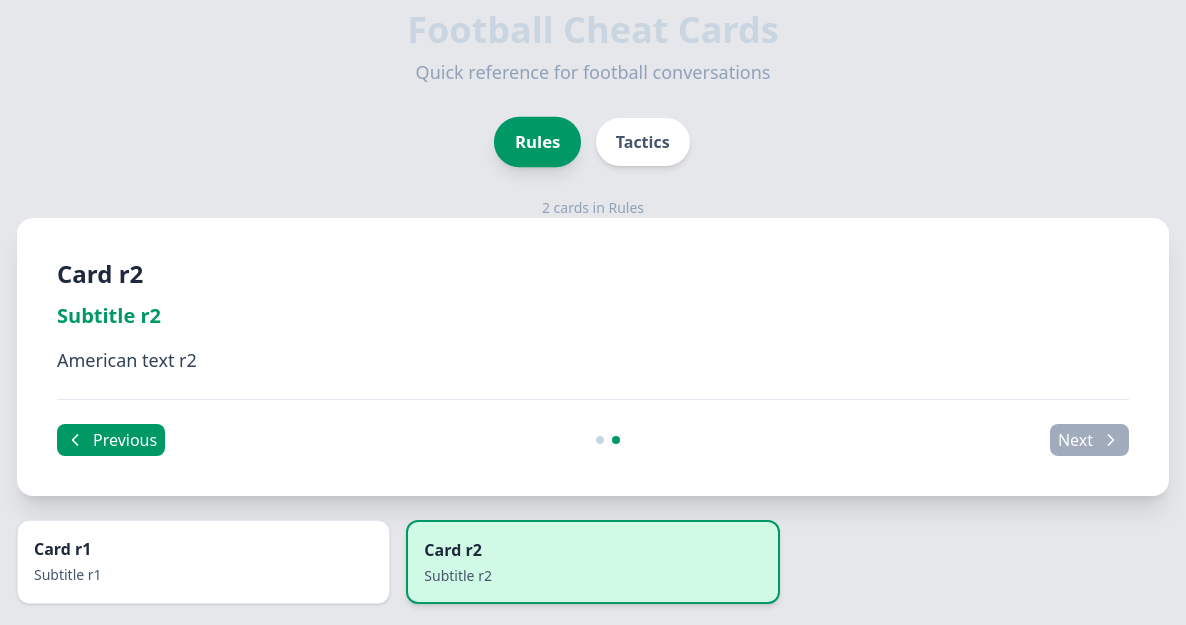
Test: CheatCardsPage › navigation › moves back to the previous card
Click the button "Previous": (111, 440) x1=57 y1=424 x2=165 y2=456
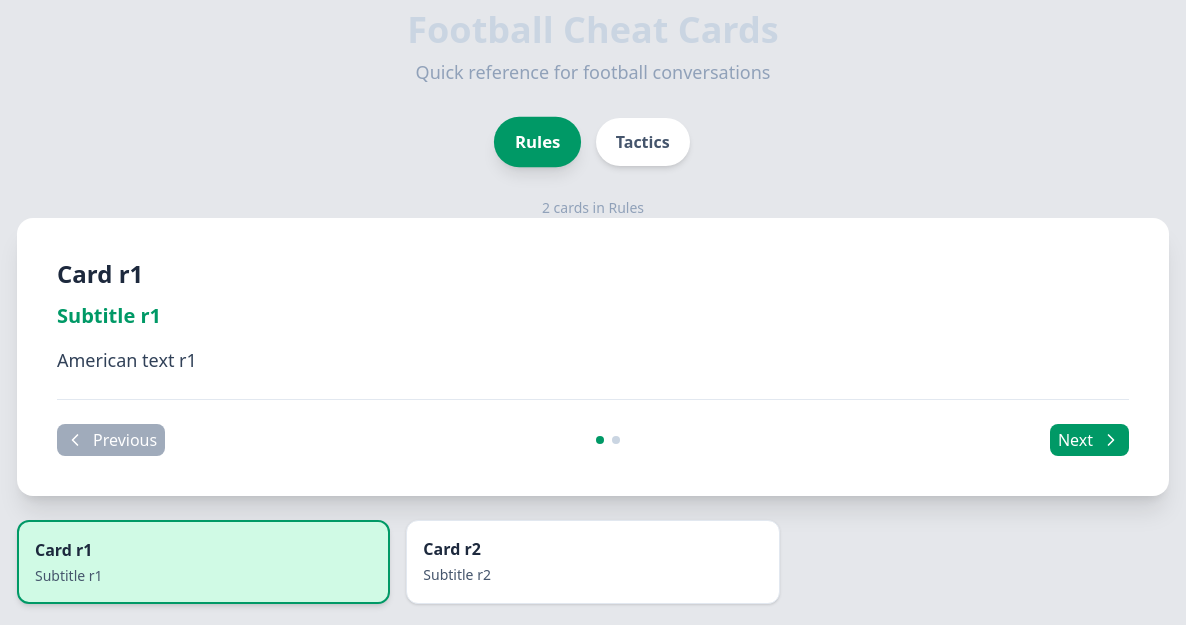
Result: the text "American text r1" is shown at x1=57 y1=348 x2=197 y2=372
